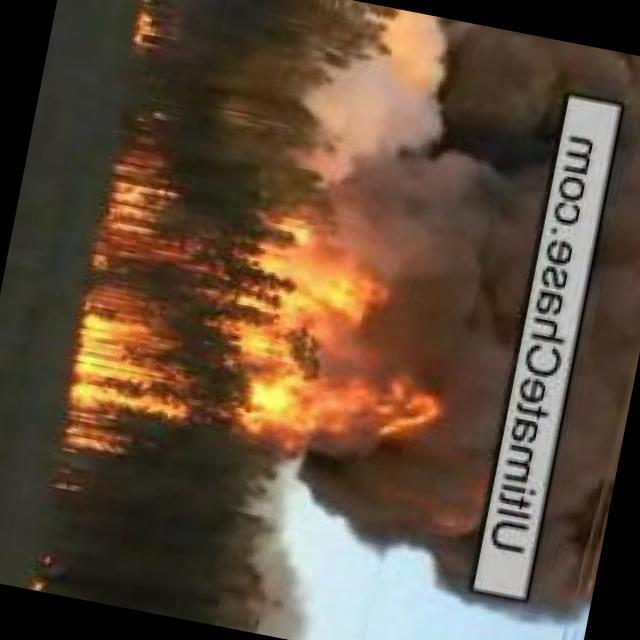Fire: (61, 106, 262, 495), (219, 190, 481, 461), (129, 1, 187, 62)
